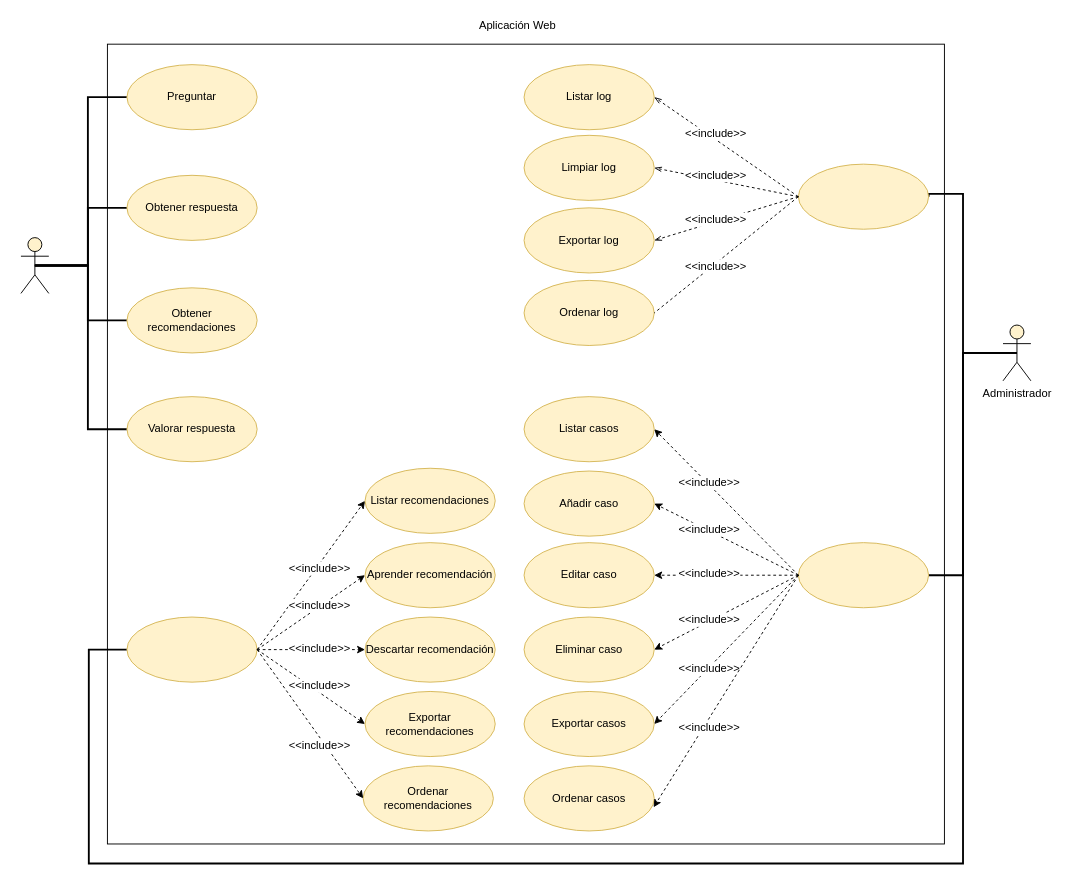
The diagram is 1068 pixels wide and 881 high, and some of its shapes have lost their labels. Each missing label, with the box of its shape:
Gestión Aprendizaje: (126, 616, 257, 682)
Gestión Casos: (797, 542, 929, 608)
Gestión Log: (797, 163, 929, 229)
Usuario: (20, 237, 49, 293)
